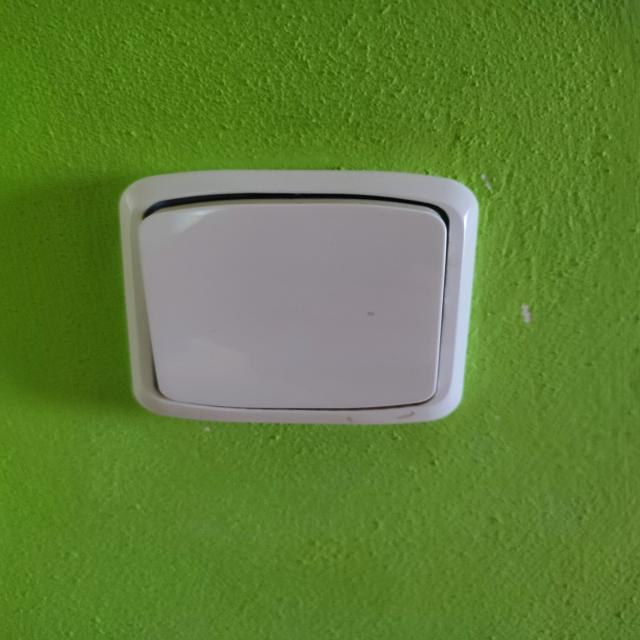house switch: (118, 168, 480, 425)
